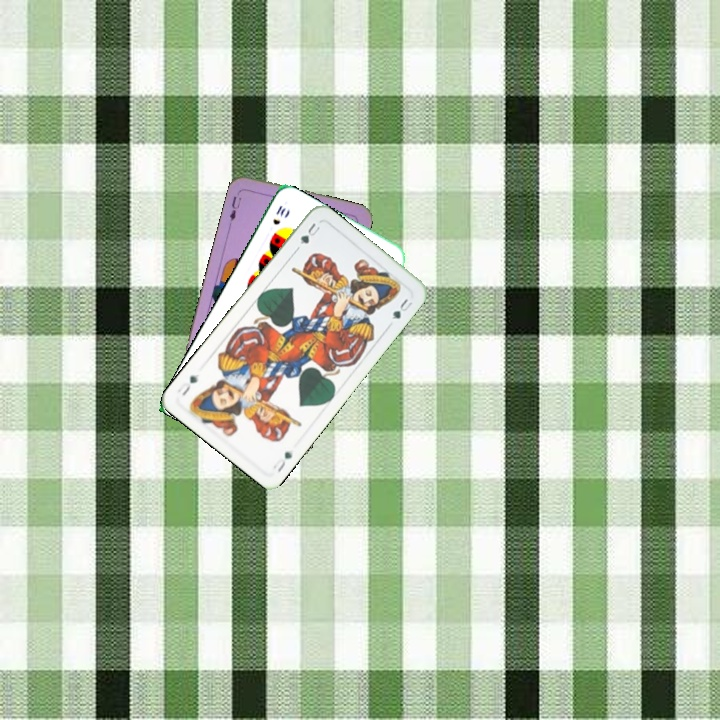EU: (226, 187, 244, 227)
GU: (296, 219, 323, 247), (269, 447, 295, 475)
S10: (269, 201, 288, 227)
